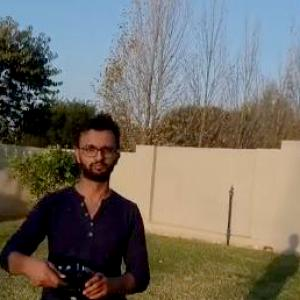follow: (0, 104, 155, 298)
